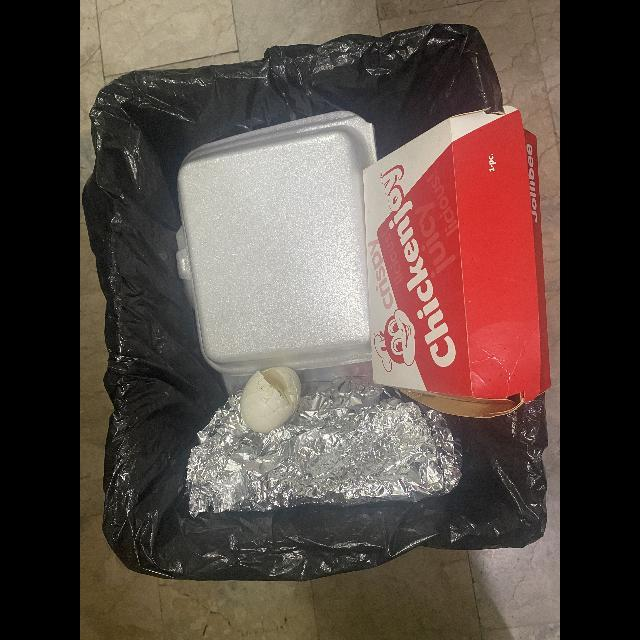biowaste: (240, 366, 301, 435)
metal: (186, 381, 463, 518)
paper: (363, 105, 551, 420)
styrofoam: (176, 110, 377, 377)
